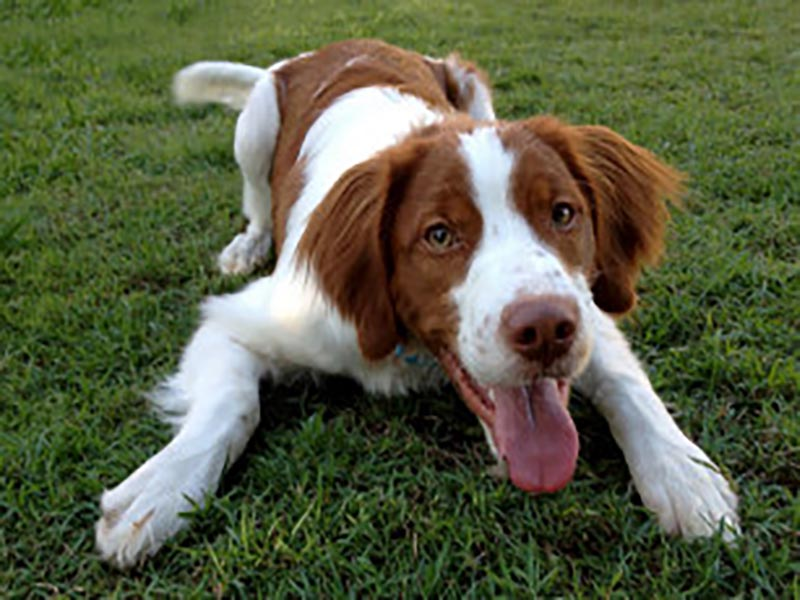cane da caccia: (114, 46, 753, 575)
